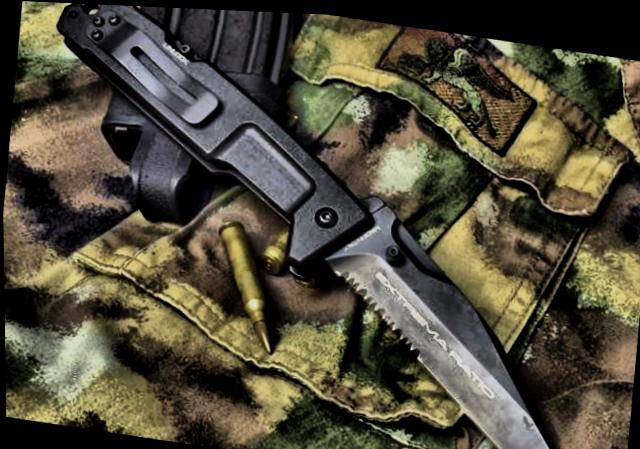knife: (298, 184, 603, 449)
